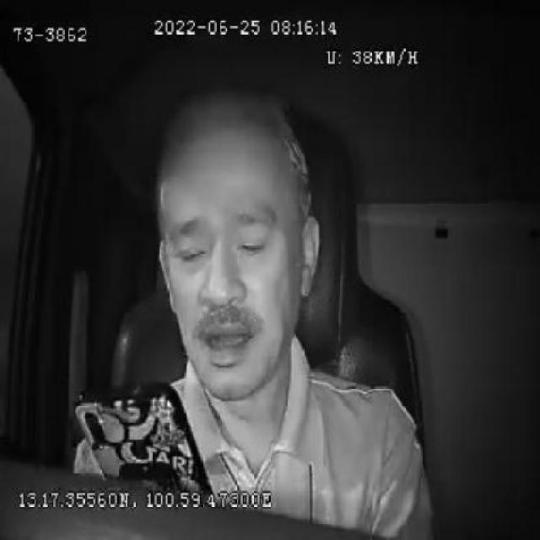phone: (73, 381, 216, 491)
